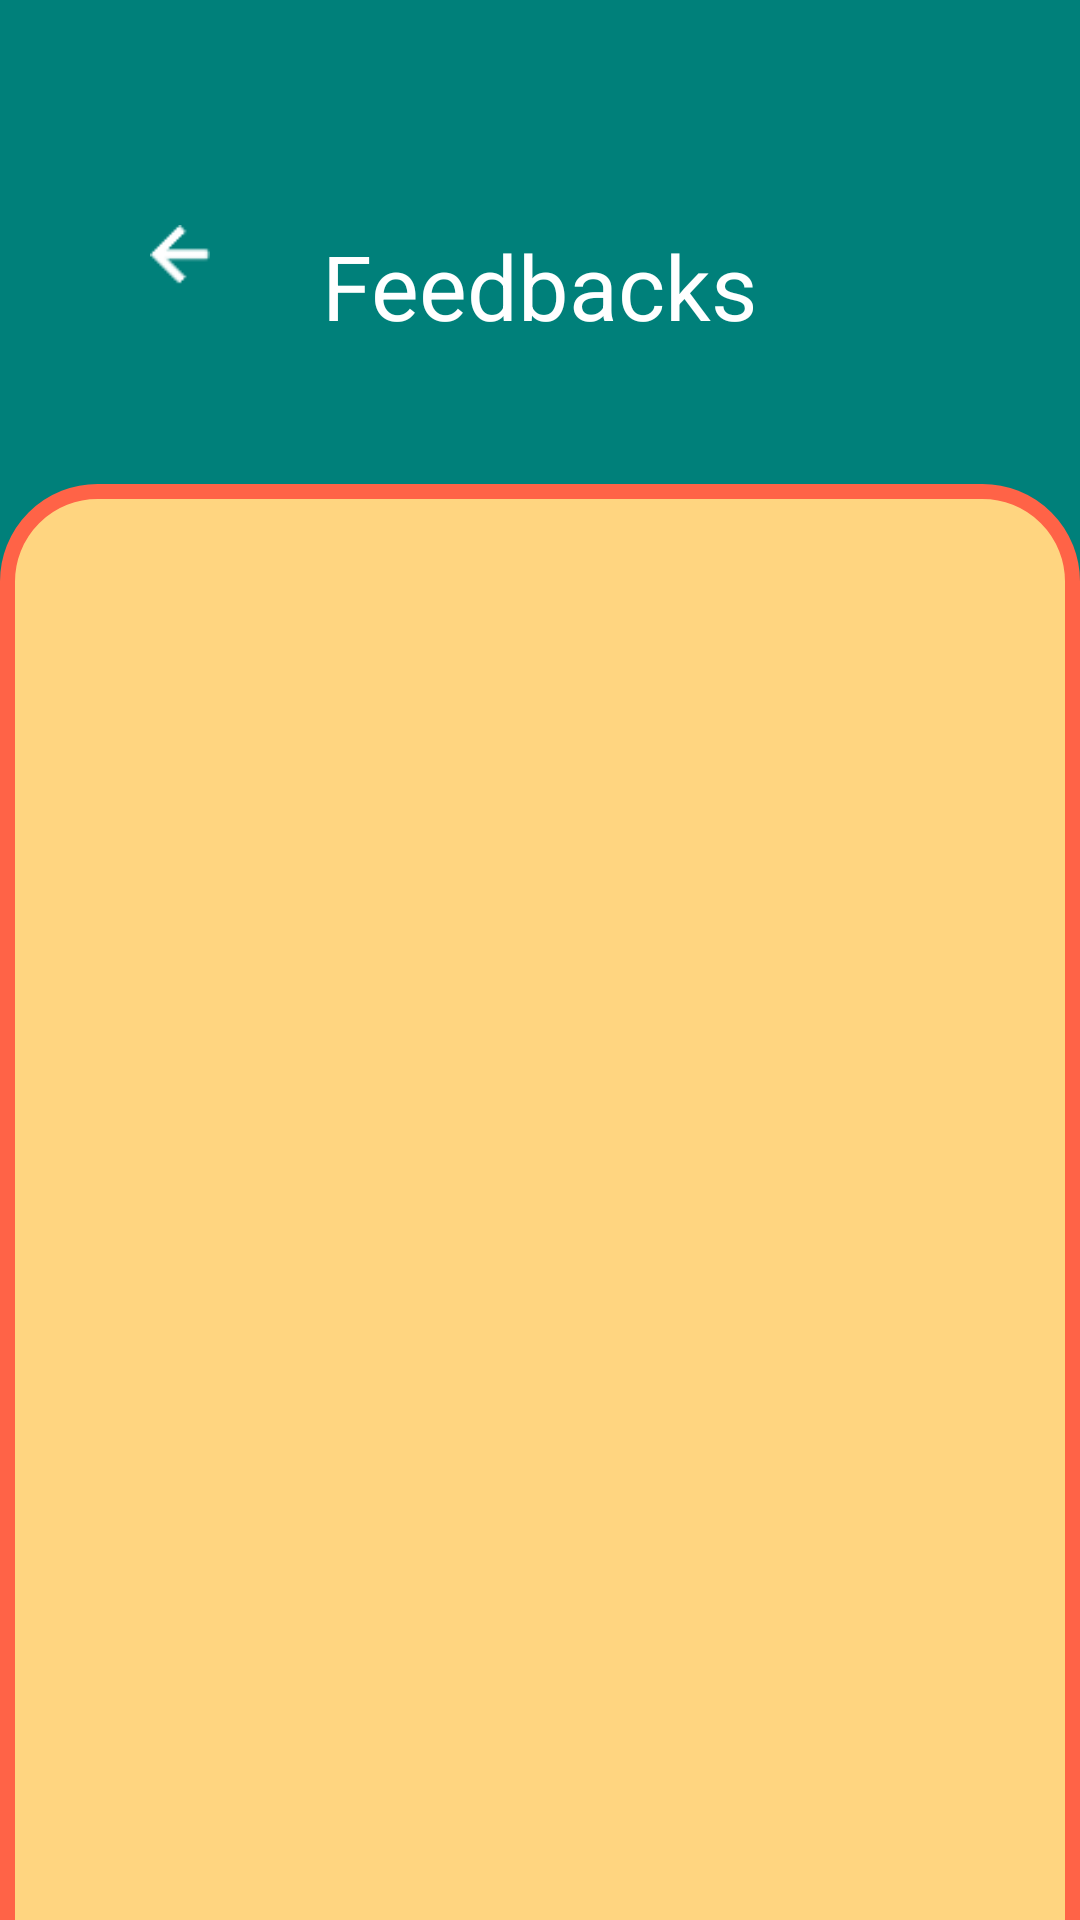

Where icons sit on this 1080w x 1920h app screen, as [x1=x1, y1=y1, x2=x2, y2=y2]:
arrow back: [x1=150, y1=225, x2=210, y2=284]
